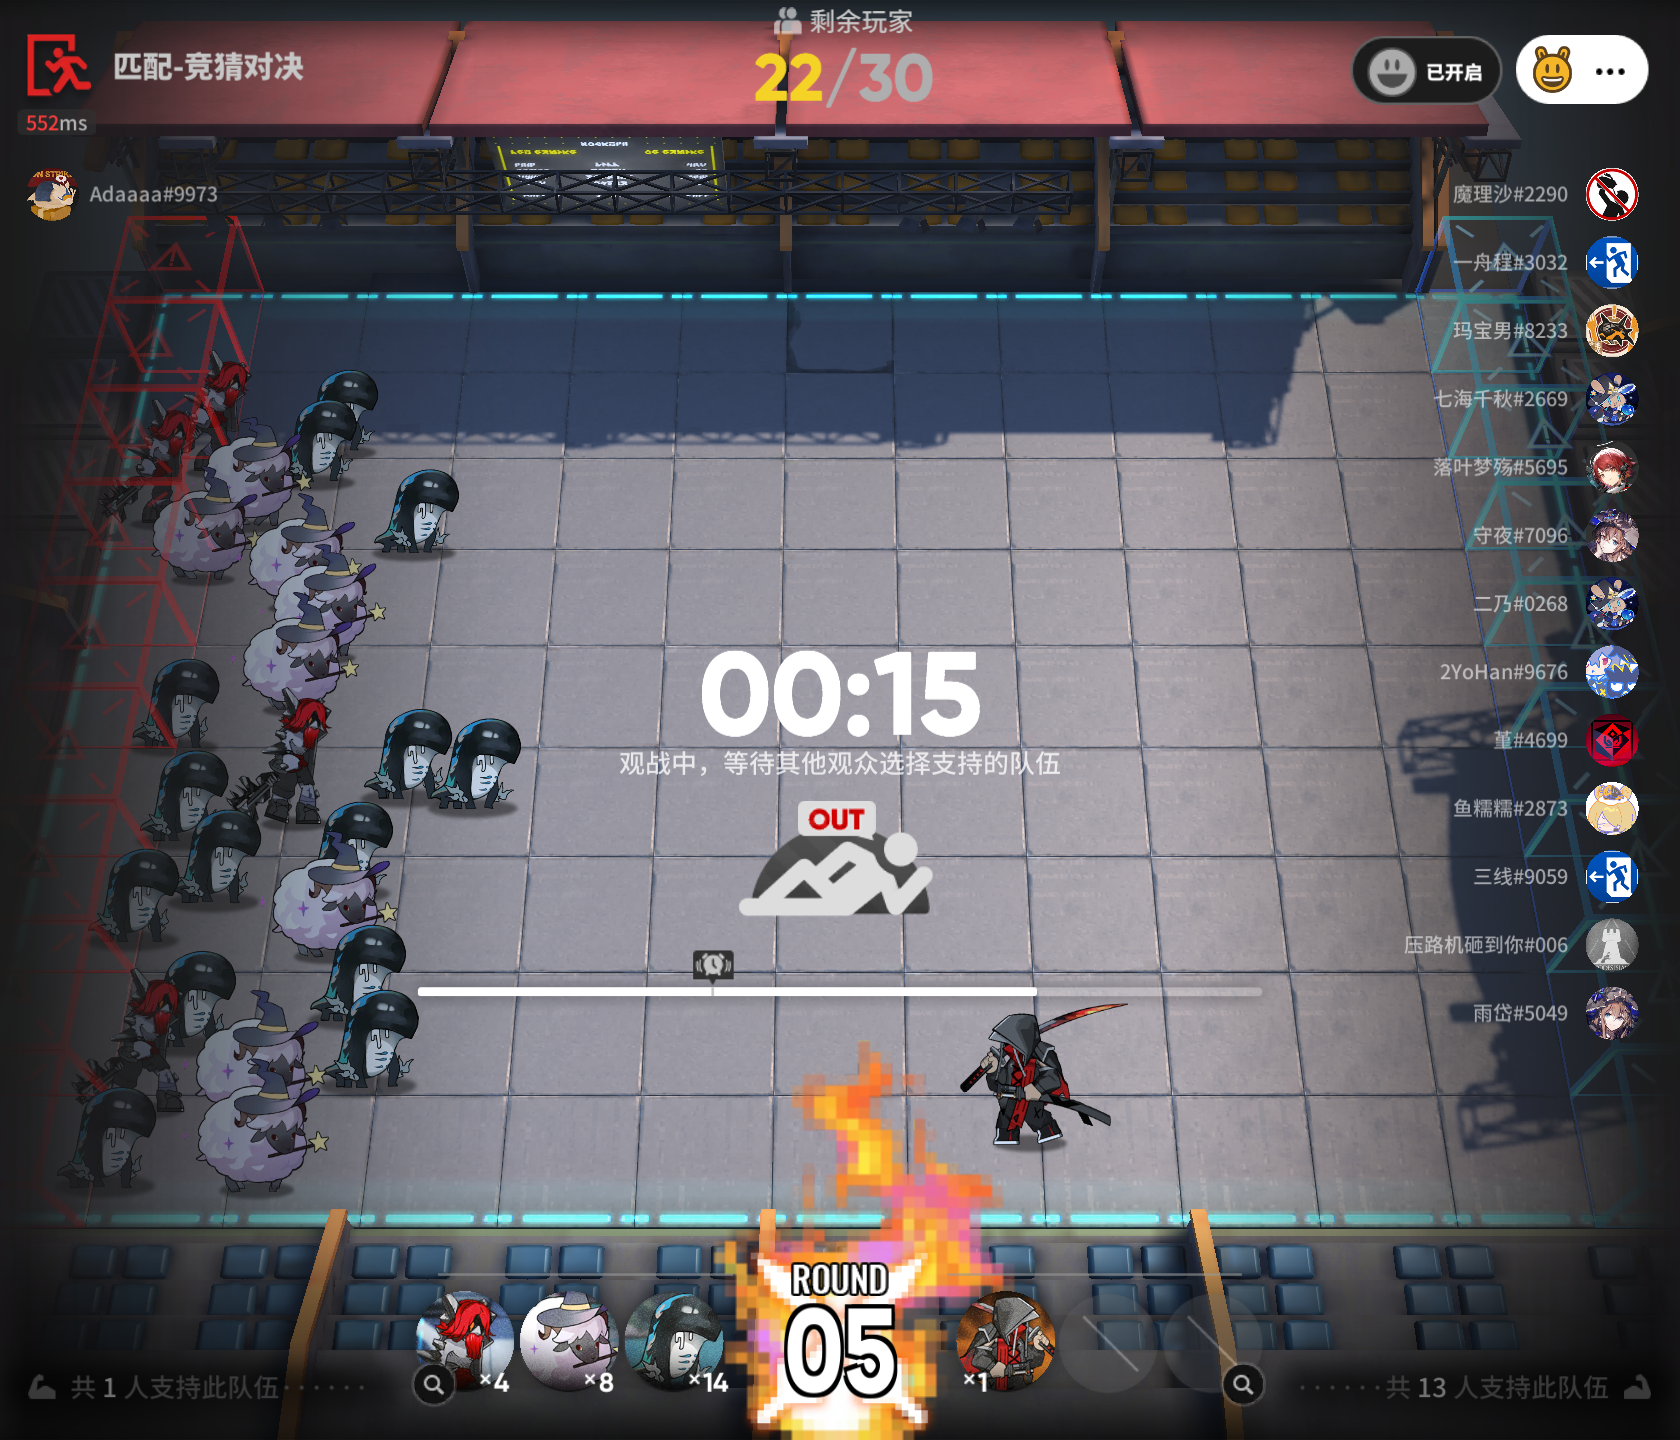“火与钢”: (959, 989, 1140, 1154), (950, 1289, 1061, 1396)
星星魔法师: (191, 1059, 331, 1201), (269, 830, 401, 961), (197, 989, 327, 1107), (239, 591, 361, 711), (149, 466, 263, 586), (269, 541, 384, 657), (241, 494, 361, 599), (204, 414, 311, 529), (521, 1287, 619, 1397)
清醒的墨魉: (614, 1284, 736, 1393), (316, 987, 421, 1091), (61, 1086, 159, 1199), (304, 926, 409, 1026), (129, 651, 219, 754), (89, 846, 176, 949), (434, 716, 527, 811), (364, 704, 454, 803), (150, 946, 239, 1046), (374, 464, 461, 564), (140, 750, 231, 844), (179, 809, 264, 909), (316, 797, 394, 889), (270, 401, 353, 486), (311, 364, 383, 446)
源石的腿脚: (71, 969, 187, 1119), (229, 686, 331, 829), (410, 1287, 520, 1396), (107, 394, 193, 531), (179, 349, 253, 476)
